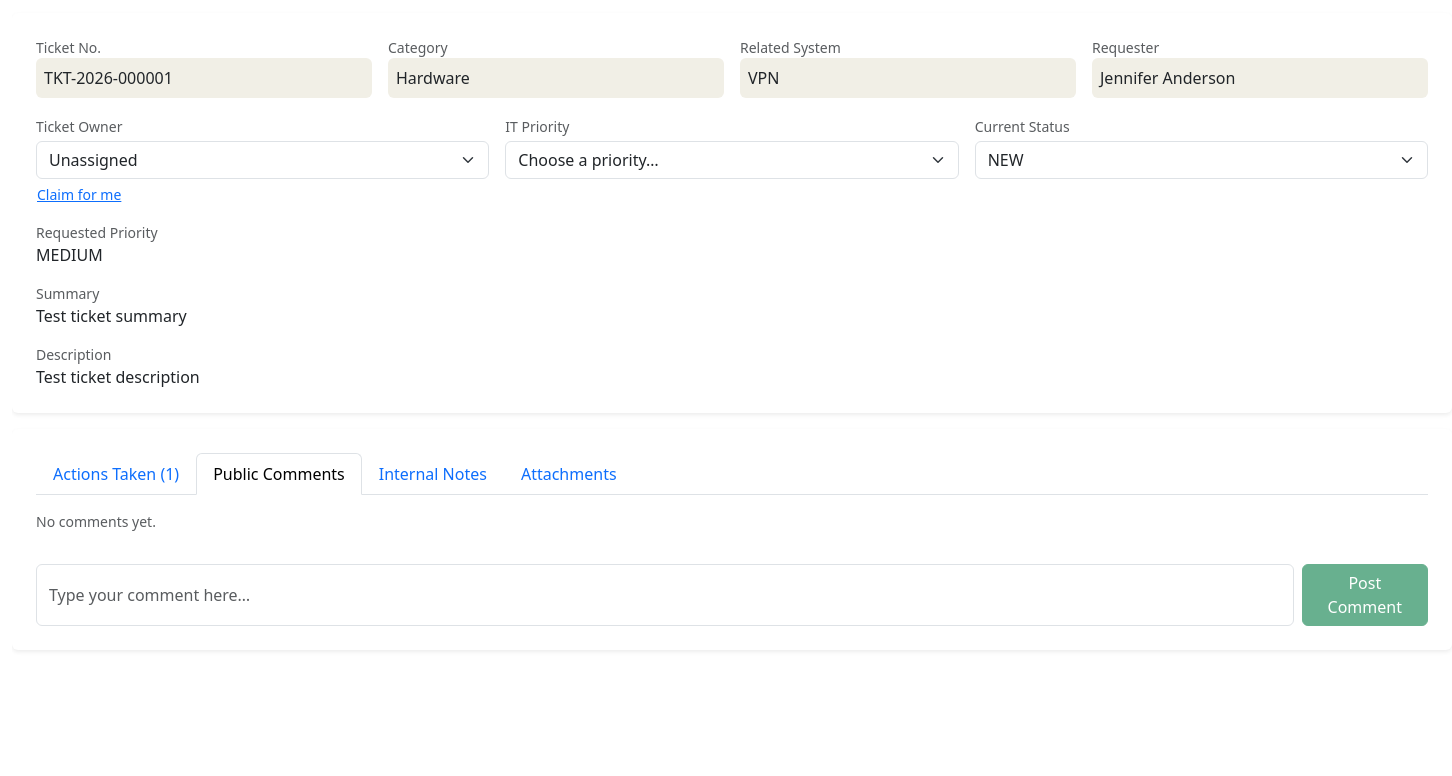
Test case: Actions Taken — IT Staff Ticket Detail › saves a successful edit, updating the row in place and closing the form
Click the button "Actions Taken (1)" at point(116, 474), box [36, 453, 196, 495]
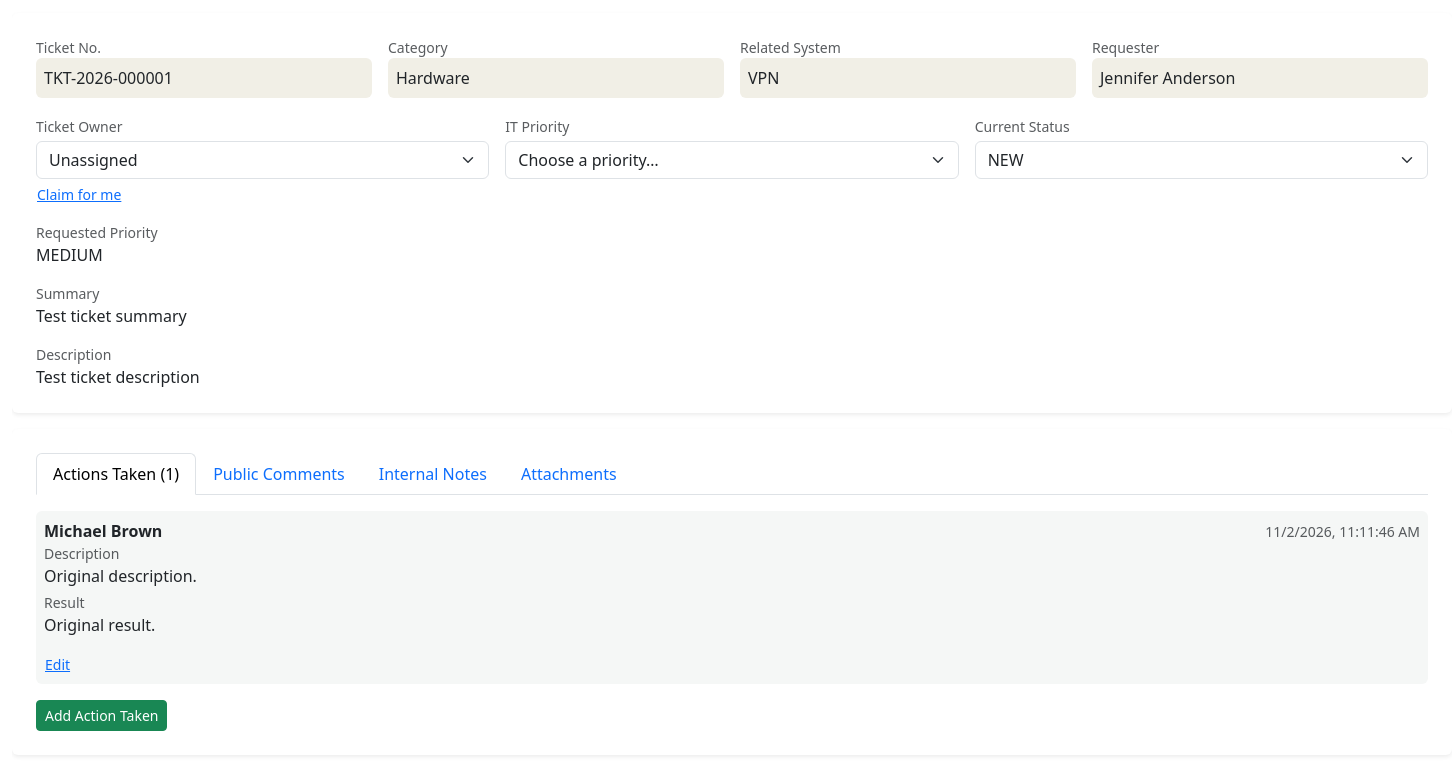
Click the button "Edit" at point(58, 665), box [44, 653, 71, 676]
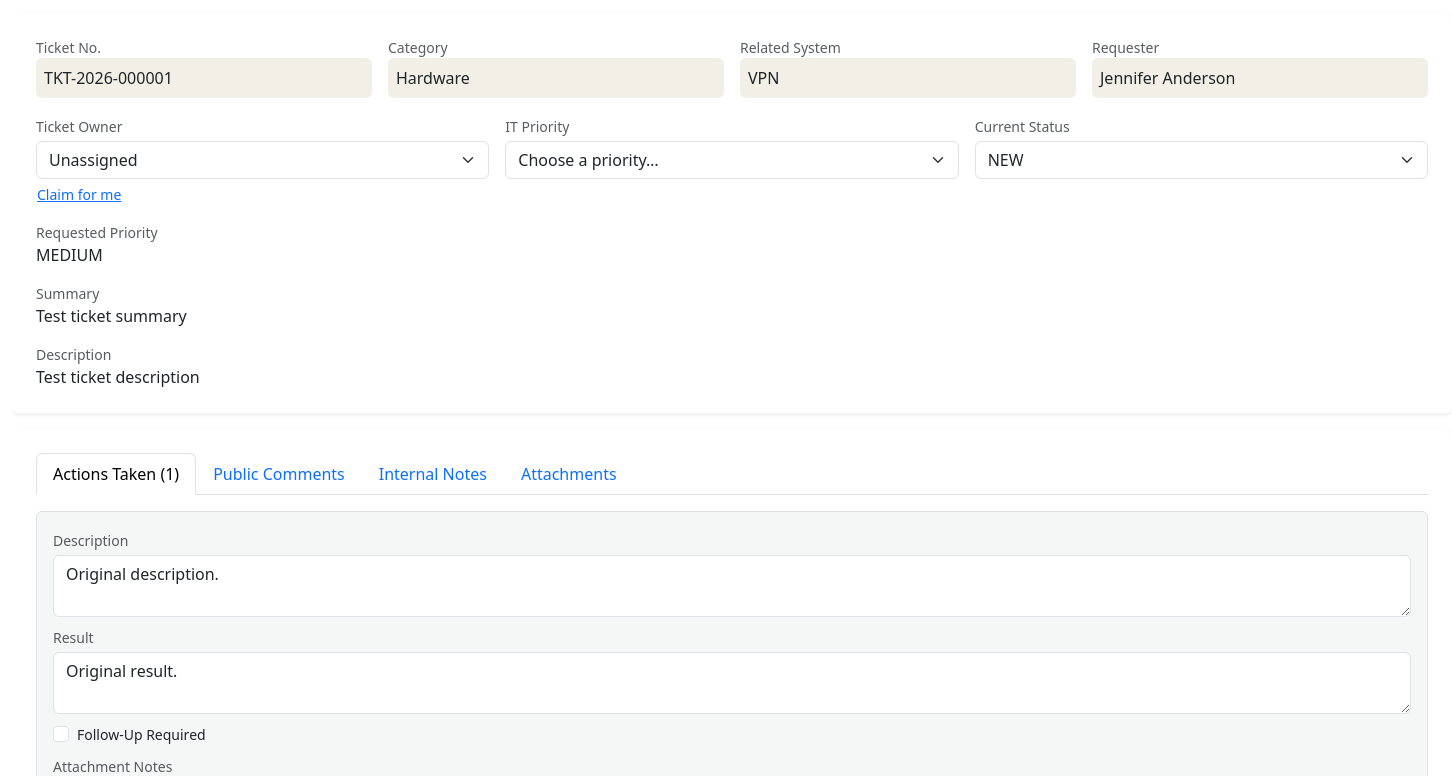
Replace the text in the text box labelled "Description" with "Edited description." at point(732, 586), box [53, 555, 1411, 617]
(page scrolled)
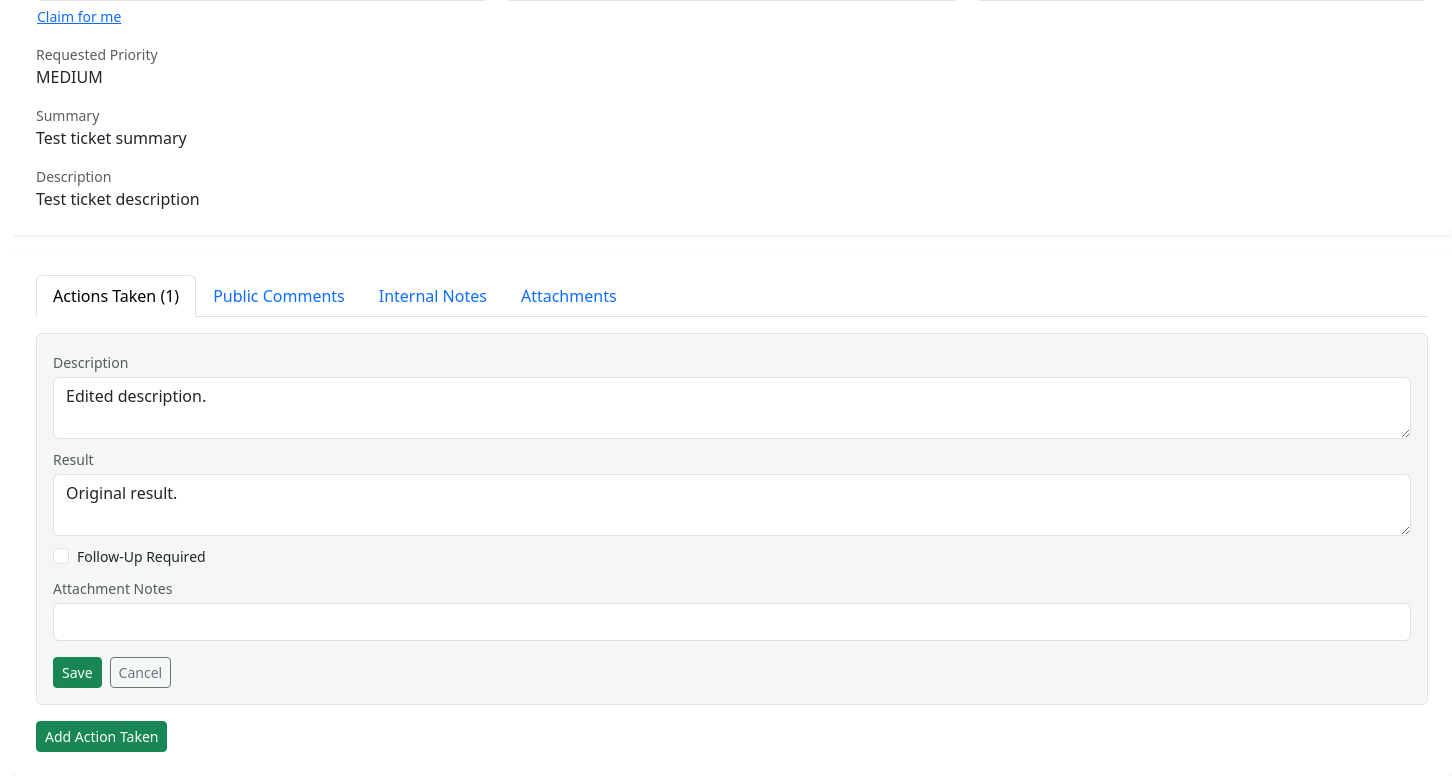
Click the button "Save" at point(77, 673), box [53, 657, 102, 688]
(page scrolled)
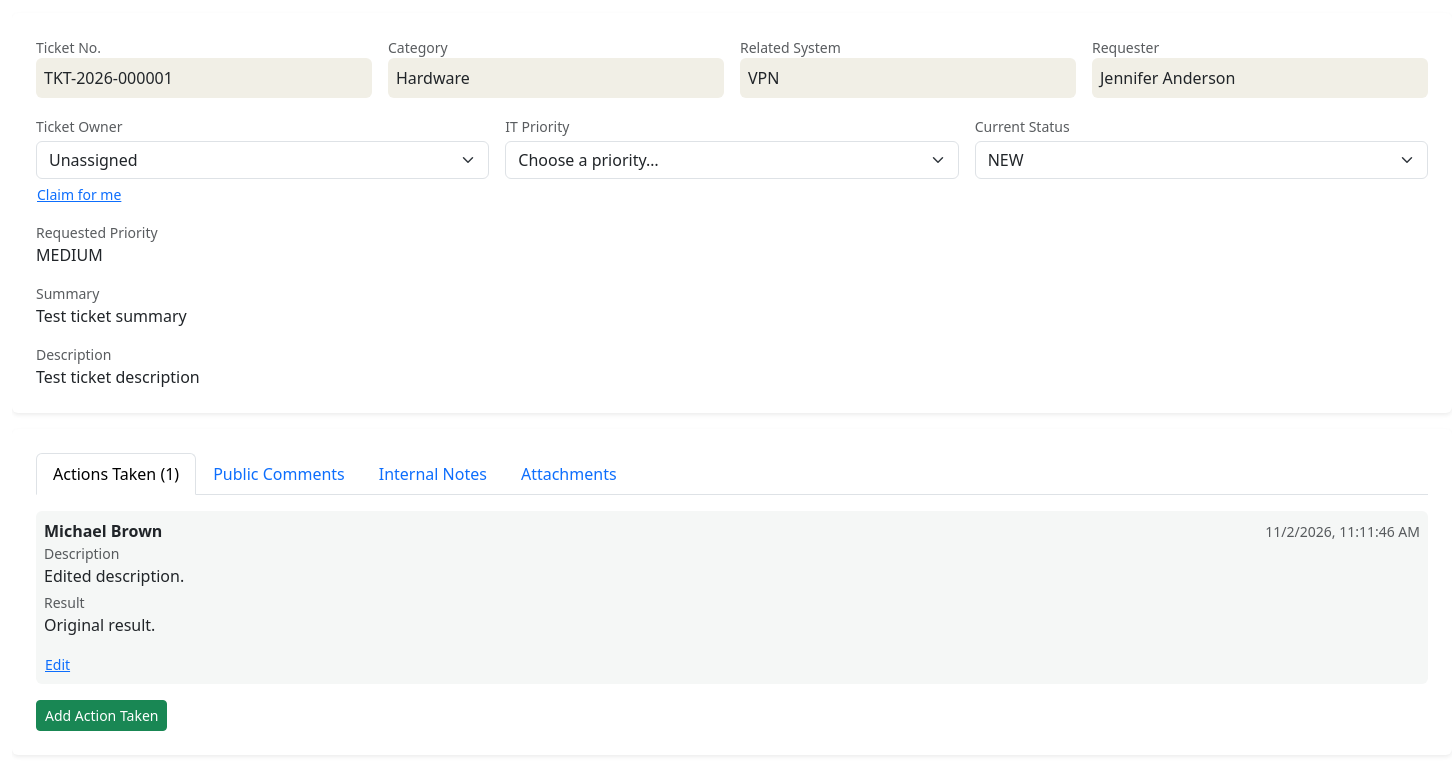
Expected: the text "Edited description." is shown, [44, 565, 184, 587]
Expected: the button "Save" is gone
